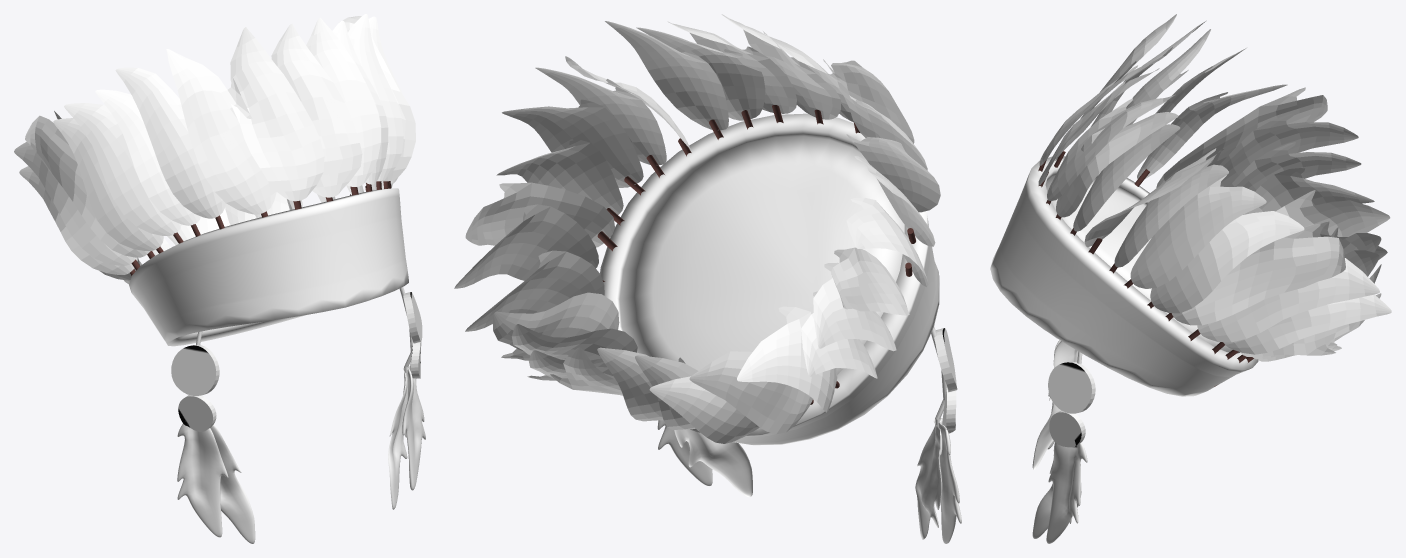
File: Indian_Hat.fbx
3 renders of one model, left to right at view 1: azimuth 30°, elevation 25°; view 2: azimuth 150°, elevation 25°; view 3: azimuth 270°, elevation 25°, orthographic. The views are drawn at different scales.
Parts seen in each view (by area): view 1: Kızılderili_Şapka; view 2: Kızılderili_Şapka; view 3: Kızılderili_Şapka.
Part boxes in pixels (bbox=[...]): Kızılderili_Şapka: bbox=[14, 14, 425, 543]; Kızılderili_Şapka: bbox=[454, 14, 961, 543]; Kızılderili_Şapka: bbox=[990, 14, 1391, 543].
Bounding box in the file's own units: 143 × 198 × 159.
